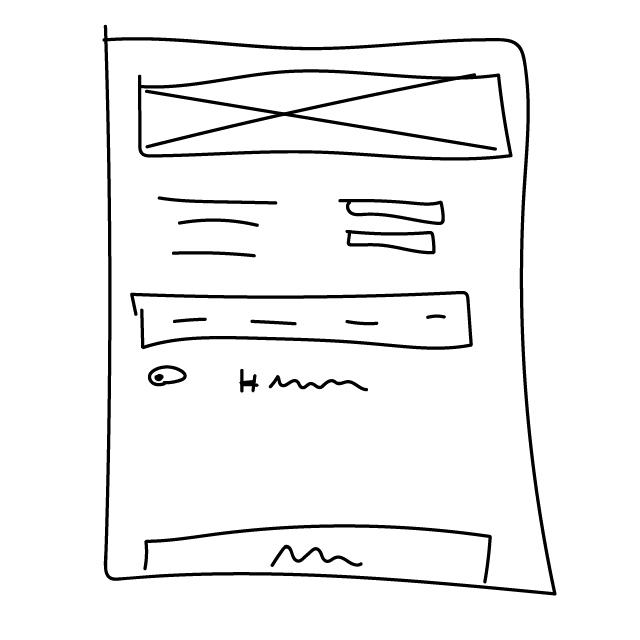checkboxrotation: (149, 365, 191, 390)
containerrotation: (87, 17, 567, 604)
footerrotation: (138, 520, 500, 591)
framerotation: (133, 63, 519, 167)
headingrotation: (234, 365, 376, 398)
inputrotation: (333, 193, 451, 228), (346, 224, 441, 258)
navrotation: (126, 288, 480, 353)
textrotation: (153, 188, 283, 270)
